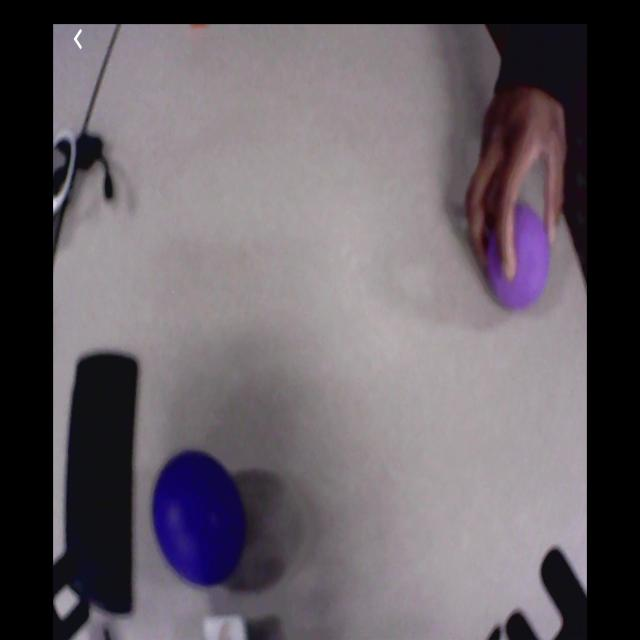ball: (154, 450, 245, 587), (490, 207, 552, 310)
